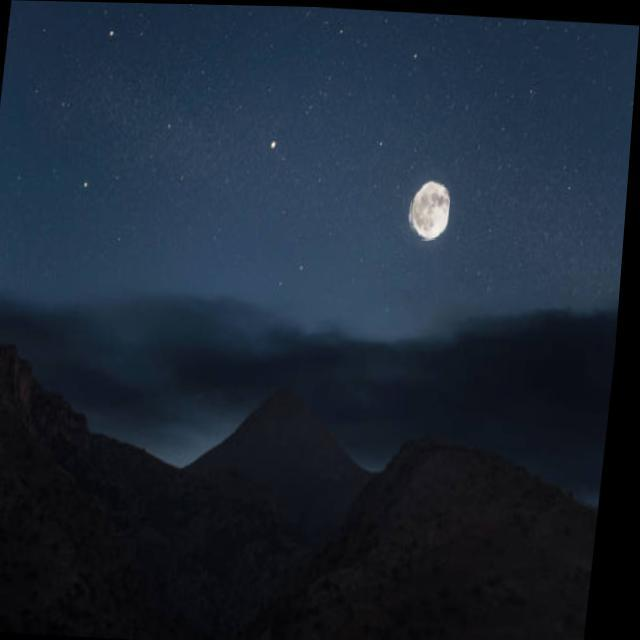moon: (409, 176, 455, 238)
